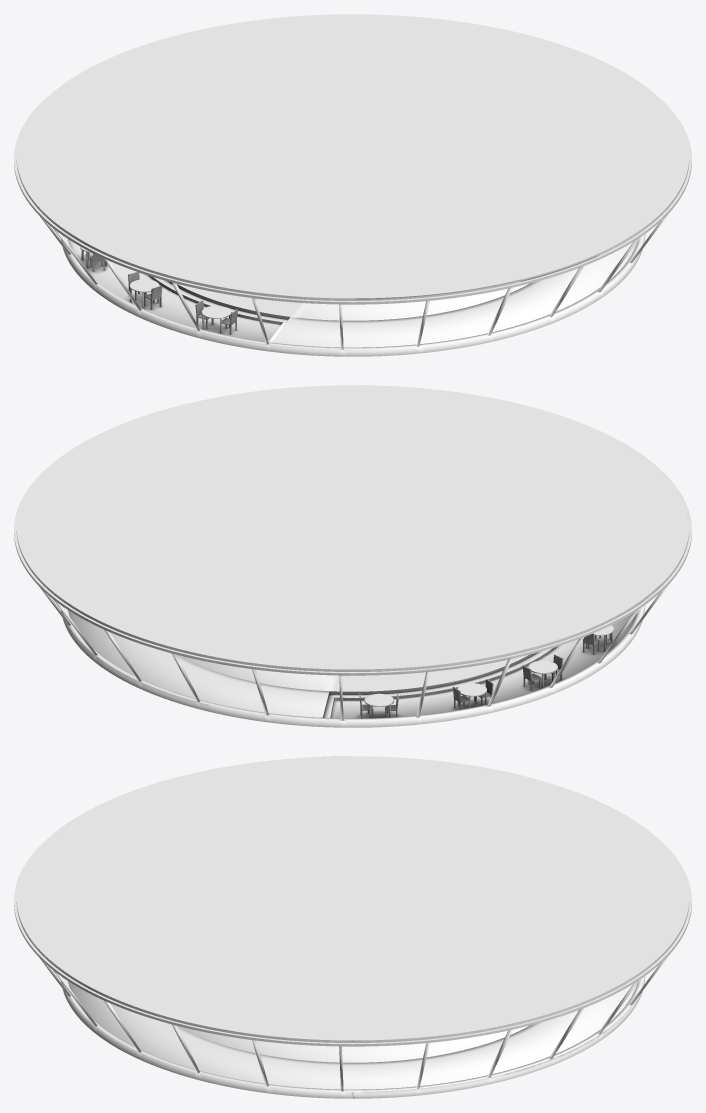
File: mad2.glb
3 views of the same model, one above another, from view 1: azimuth 30°, elevation 25°; view 2: azimuth 150°, elevation 25°; view 3: azimuth 270°, elevation 25° (orthographic).
Parts seen in each view (by area): view 1: Main Bake; view 2: Main Bake; view 3: Main Bake.
Boxes of the visible parts, x1,y1,x2,y2 form: Main Bake: (14,14,691,356); Main Bake: (14,385,691,727); Main Bake: (14,756,691,1098).
Bounding box in the file's own units: 31.42 × 3.93 × 31.42.
1 material, 1 textured.
